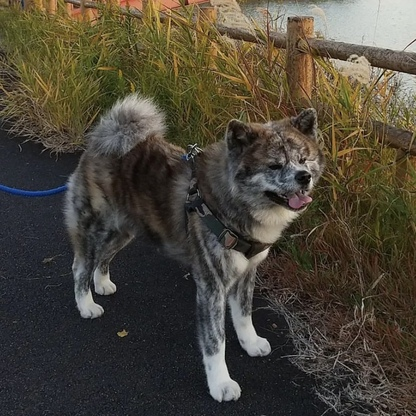akita: (58, 88, 333, 405)
